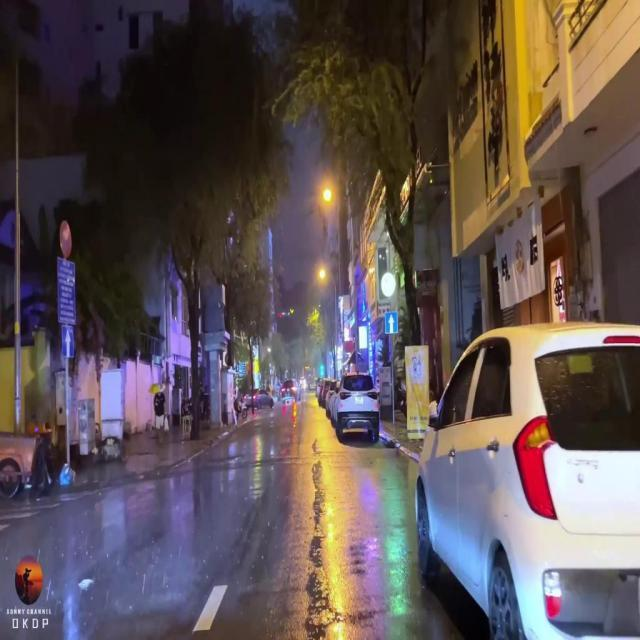407a-duong-mot-chieu: (62, 326, 73, 358), (384, 312, 398, 334)
